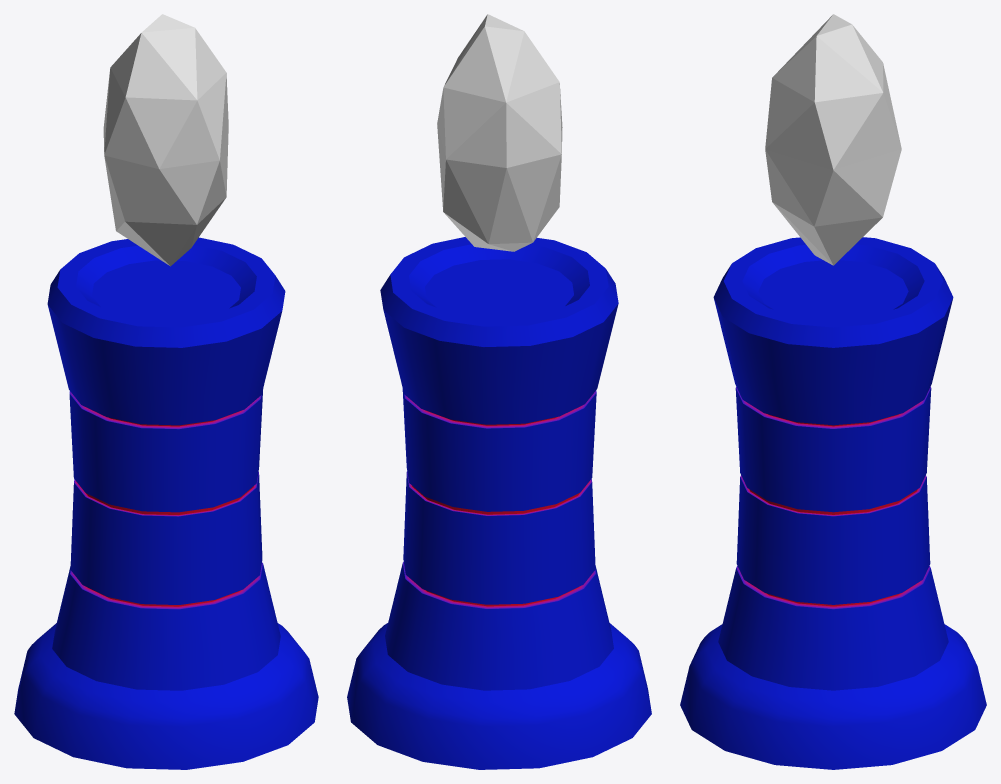
Rendered from Tourelle2.fbx.
3 renders of one model, left to right at view 1: azimuth 30°, elevation 25°; view 2: azimuth 150°, elevation 25°; view 3: azimuth 270°, elevation 25°, orthographic.
Parts seen in each view (by area): view 1: Tourelle, Cristal.001; view 2: Tourelle, Cristal.001; view 3: Tourelle, Cristal.001.
Boxes of the visible parts, left/top/right/bottom form: Tourelle: left=14, top=237, right=318, bottom=769; Cristal.001: left=103, top=14, right=228, bottom=266; Tourelle: left=347, top=237, right=651, bottom=769; Cristal.001: left=437, top=14, right=562, bottom=251; Tourelle: left=680, top=237, right=986, bottom=769; Cristal.001: left=765, top=14, right=901, bottom=265.
Bounding box in the file's own units: 30.2 × 74.2 × 30.2.
